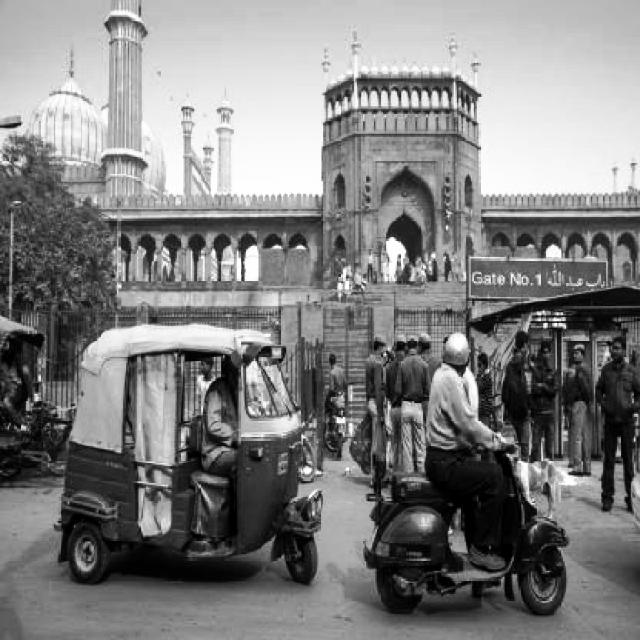Auto-Rickshaw: (55, 317, 332, 590)
